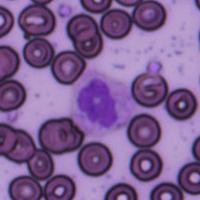N: (68, 65, 136, 136)
